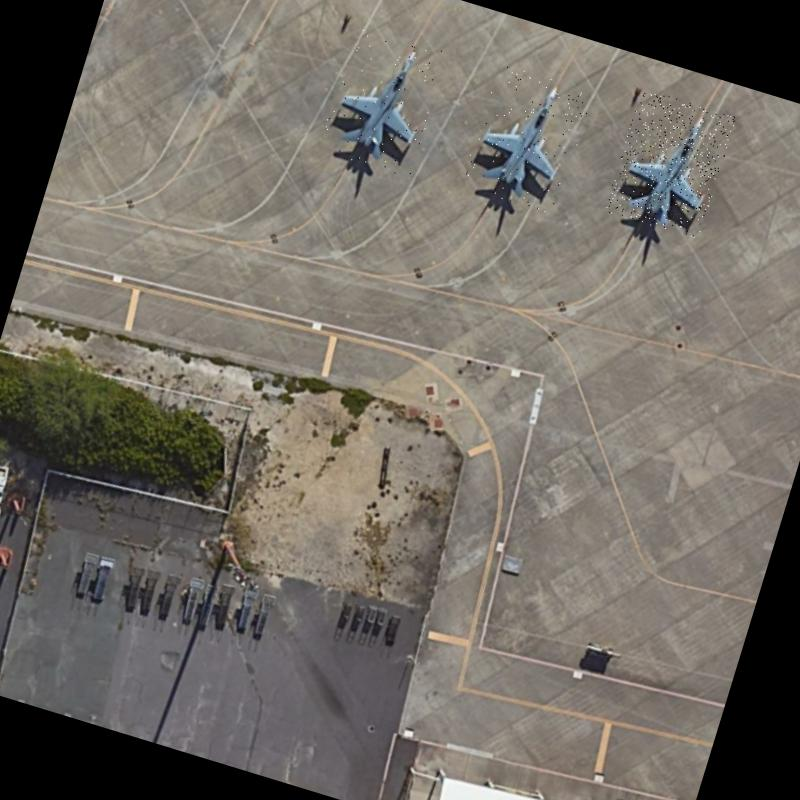A16: (460, 62, 594, 216), (318, 24, 449, 178), (604, 88, 736, 240)
